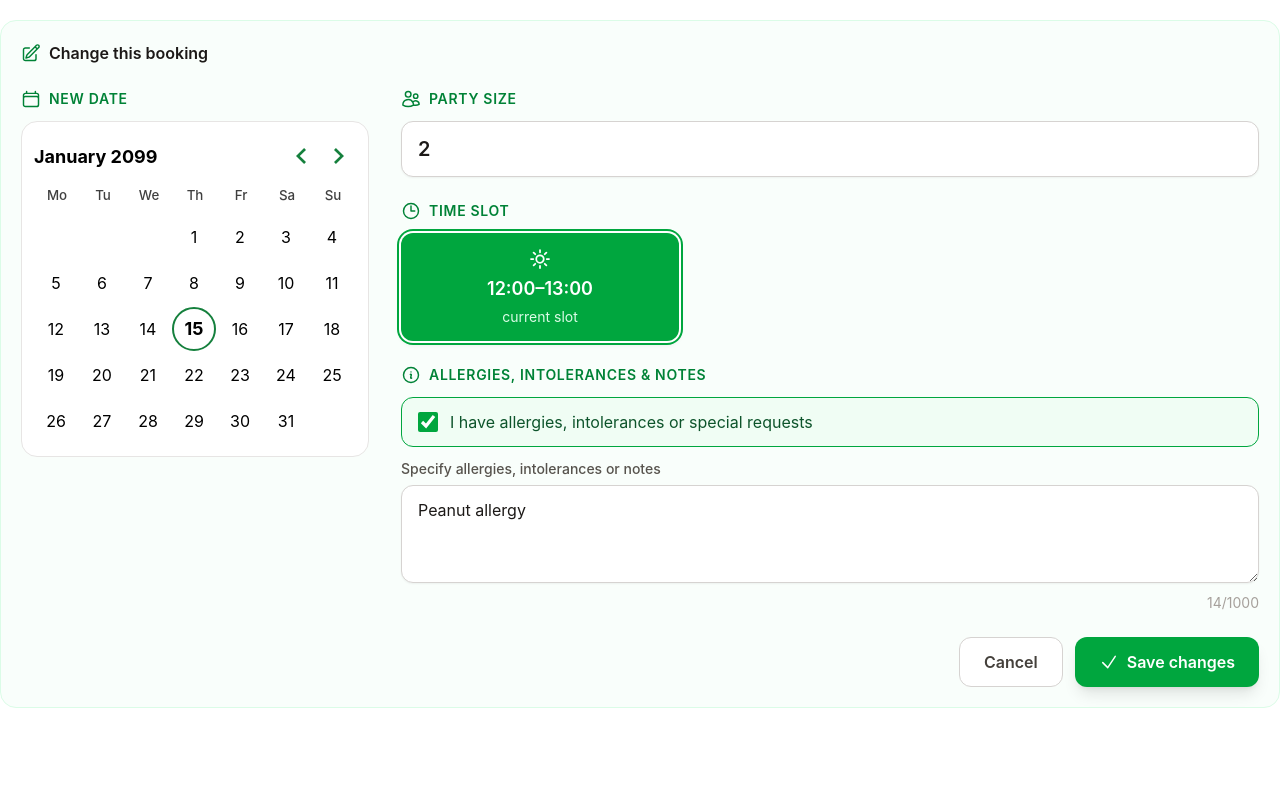
Test: ChangeBookingPanel requirements editing › preserves text when unchecked and re-checked, and sends null if saved unchecked
Later steps or results of the test are not shown.
Check: the button "12:00–13:00 current slot" is shown, box [401,233,679,341]
What coordinates should you click on to do the following:
click the checkbox labelled "I have allergies, intolerances or special requests"
I would click on:
 (428, 422)
Its box is [418,412,438,432].
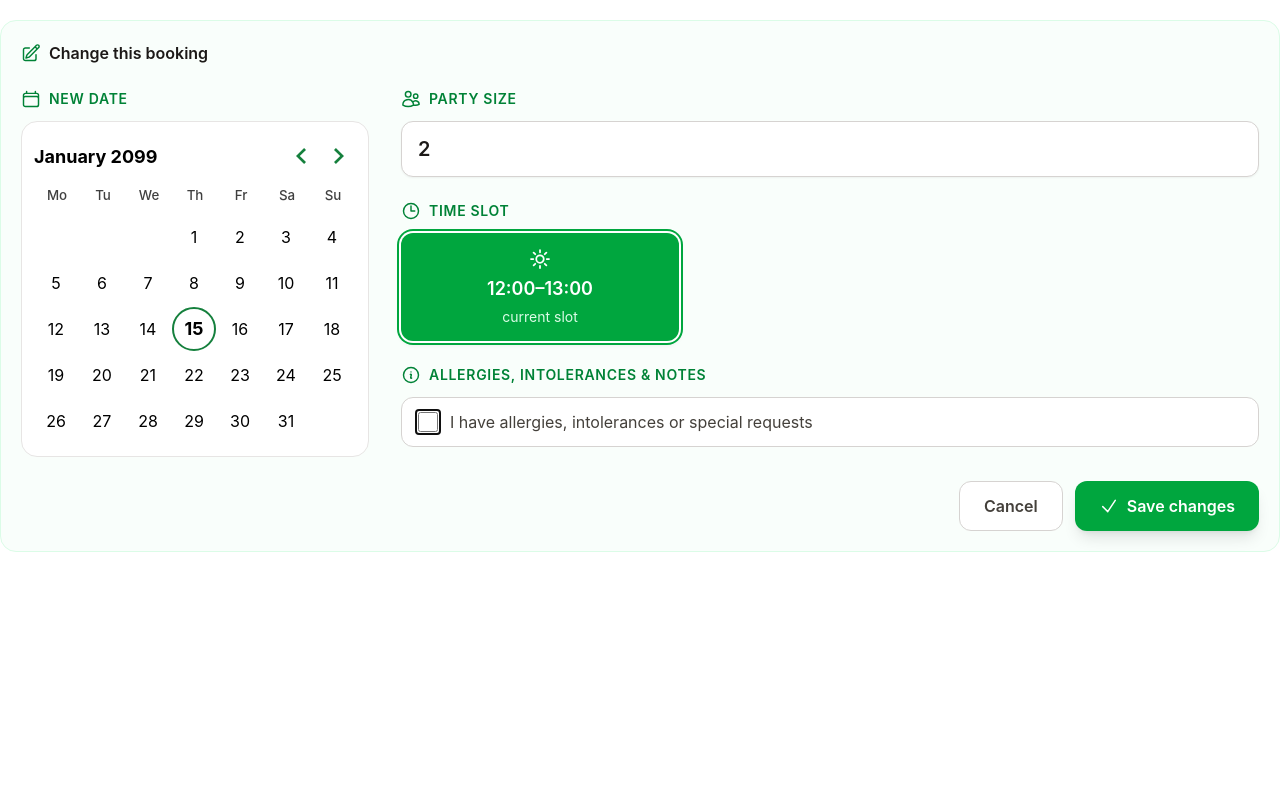
Check: the label labelled "Specify allergies, intolerances or notes" is gone
What coordinates should you click on to do the following:
click the checkbox labelled "I have allergies, intolerances or special requests"
I would click on:
 (428, 422)
Its box is [418,412,438,432].
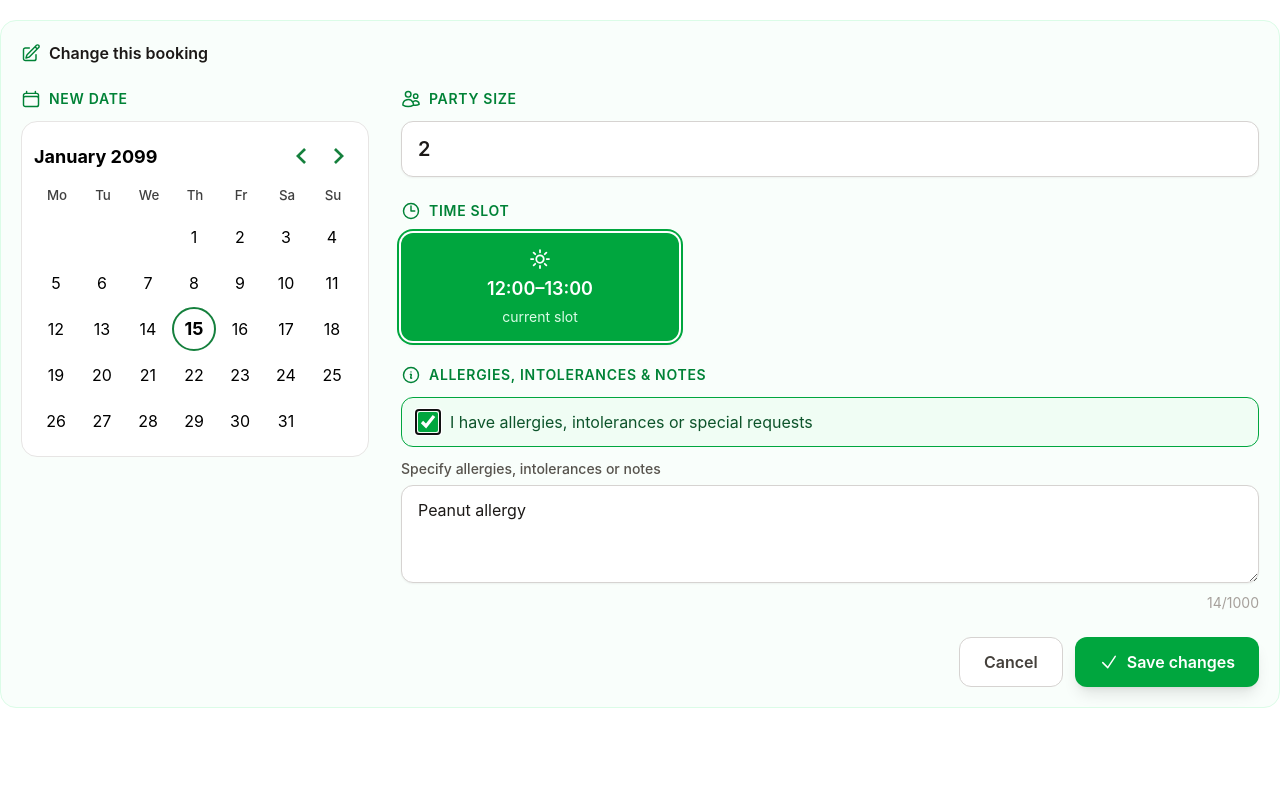
Check: the text box labelled "Specify allergies, intolerances or notes" holds "Peanut allergy", box [401,485,1259,583]
